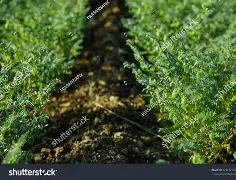crops: (0, 1, 232, 162)
